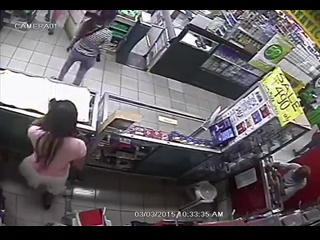Normal: (18, 98, 88, 220), (51, 15, 117, 88)
